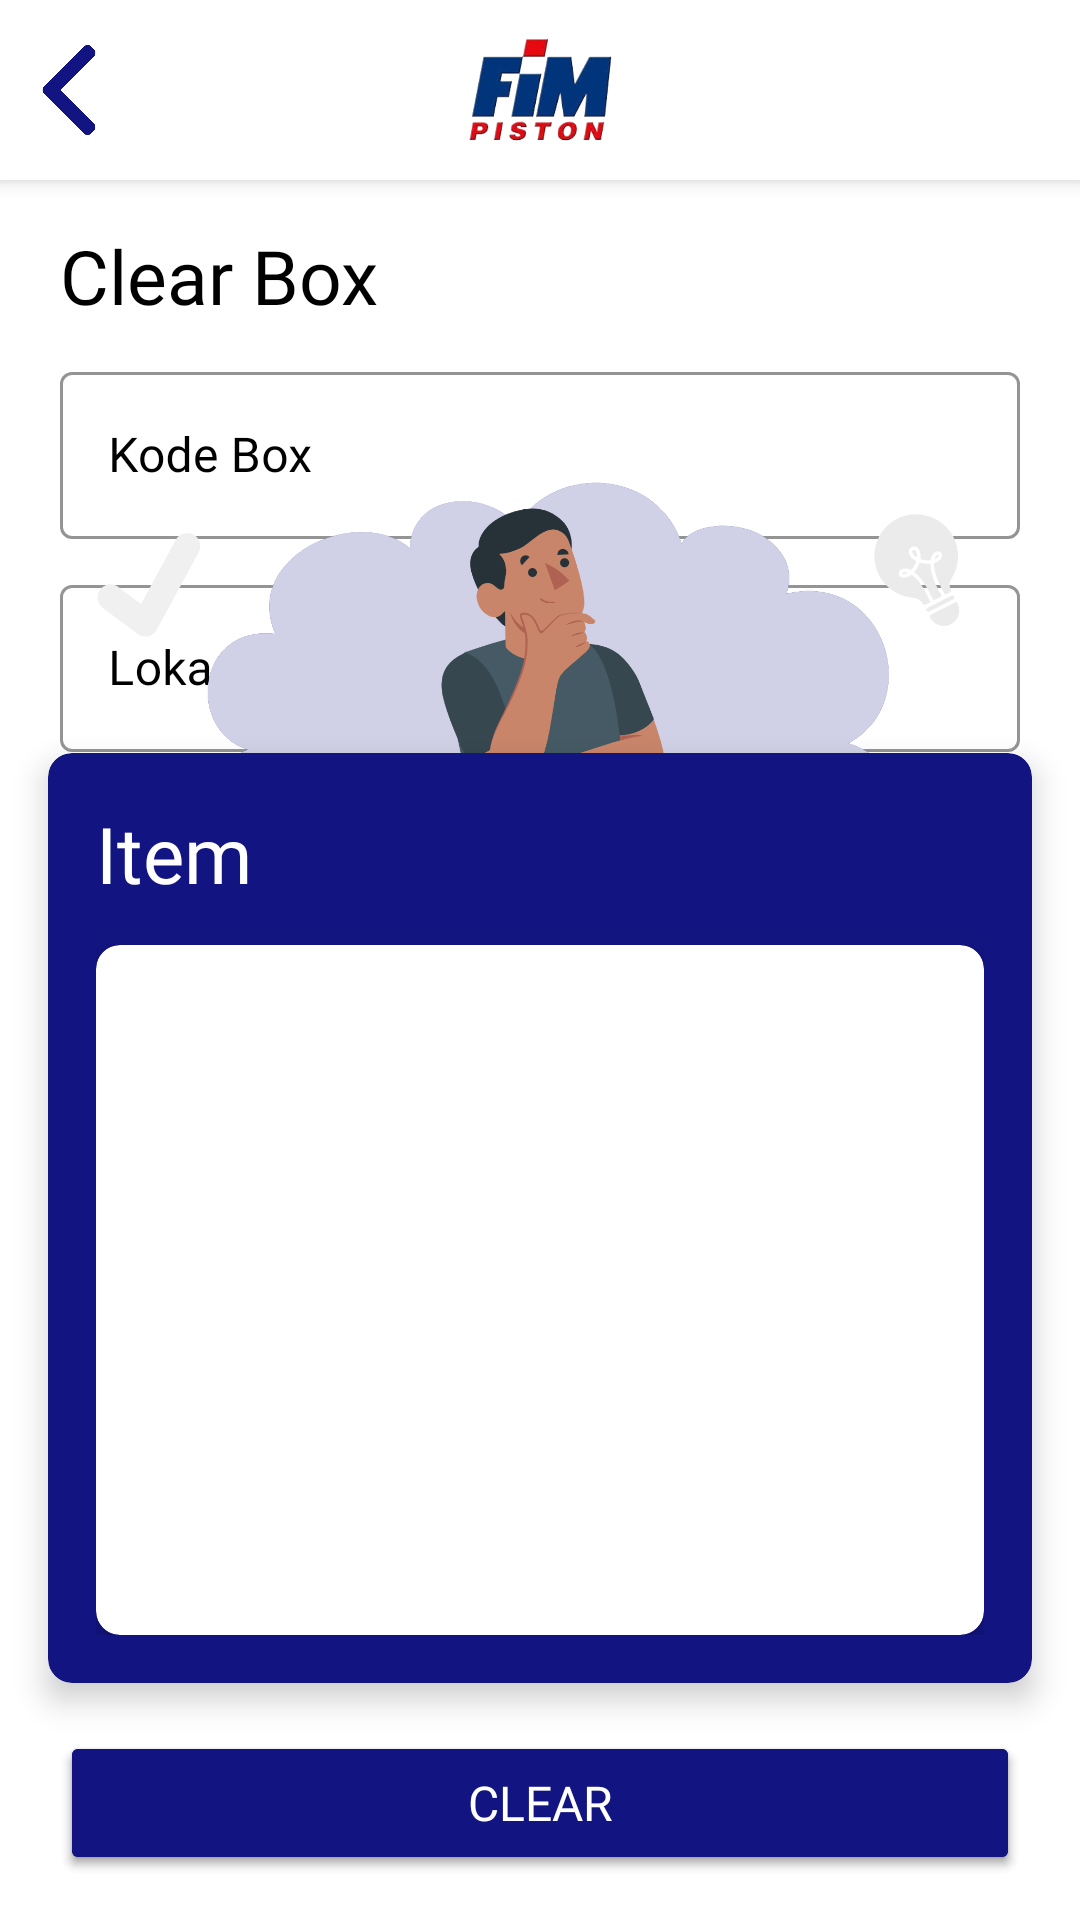

Icons on this 1080px x 1920px Android screen, each with the point to tap as point (x, y):
left arrow: point (69, 90)
